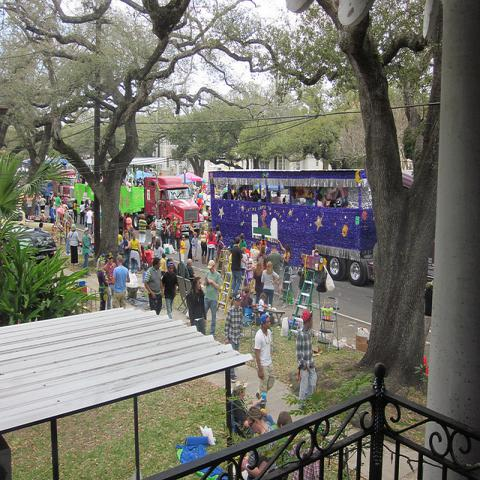bus: (211, 172, 378, 284)
truck: (119, 156, 205, 236), (49, 168, 78, 204)
